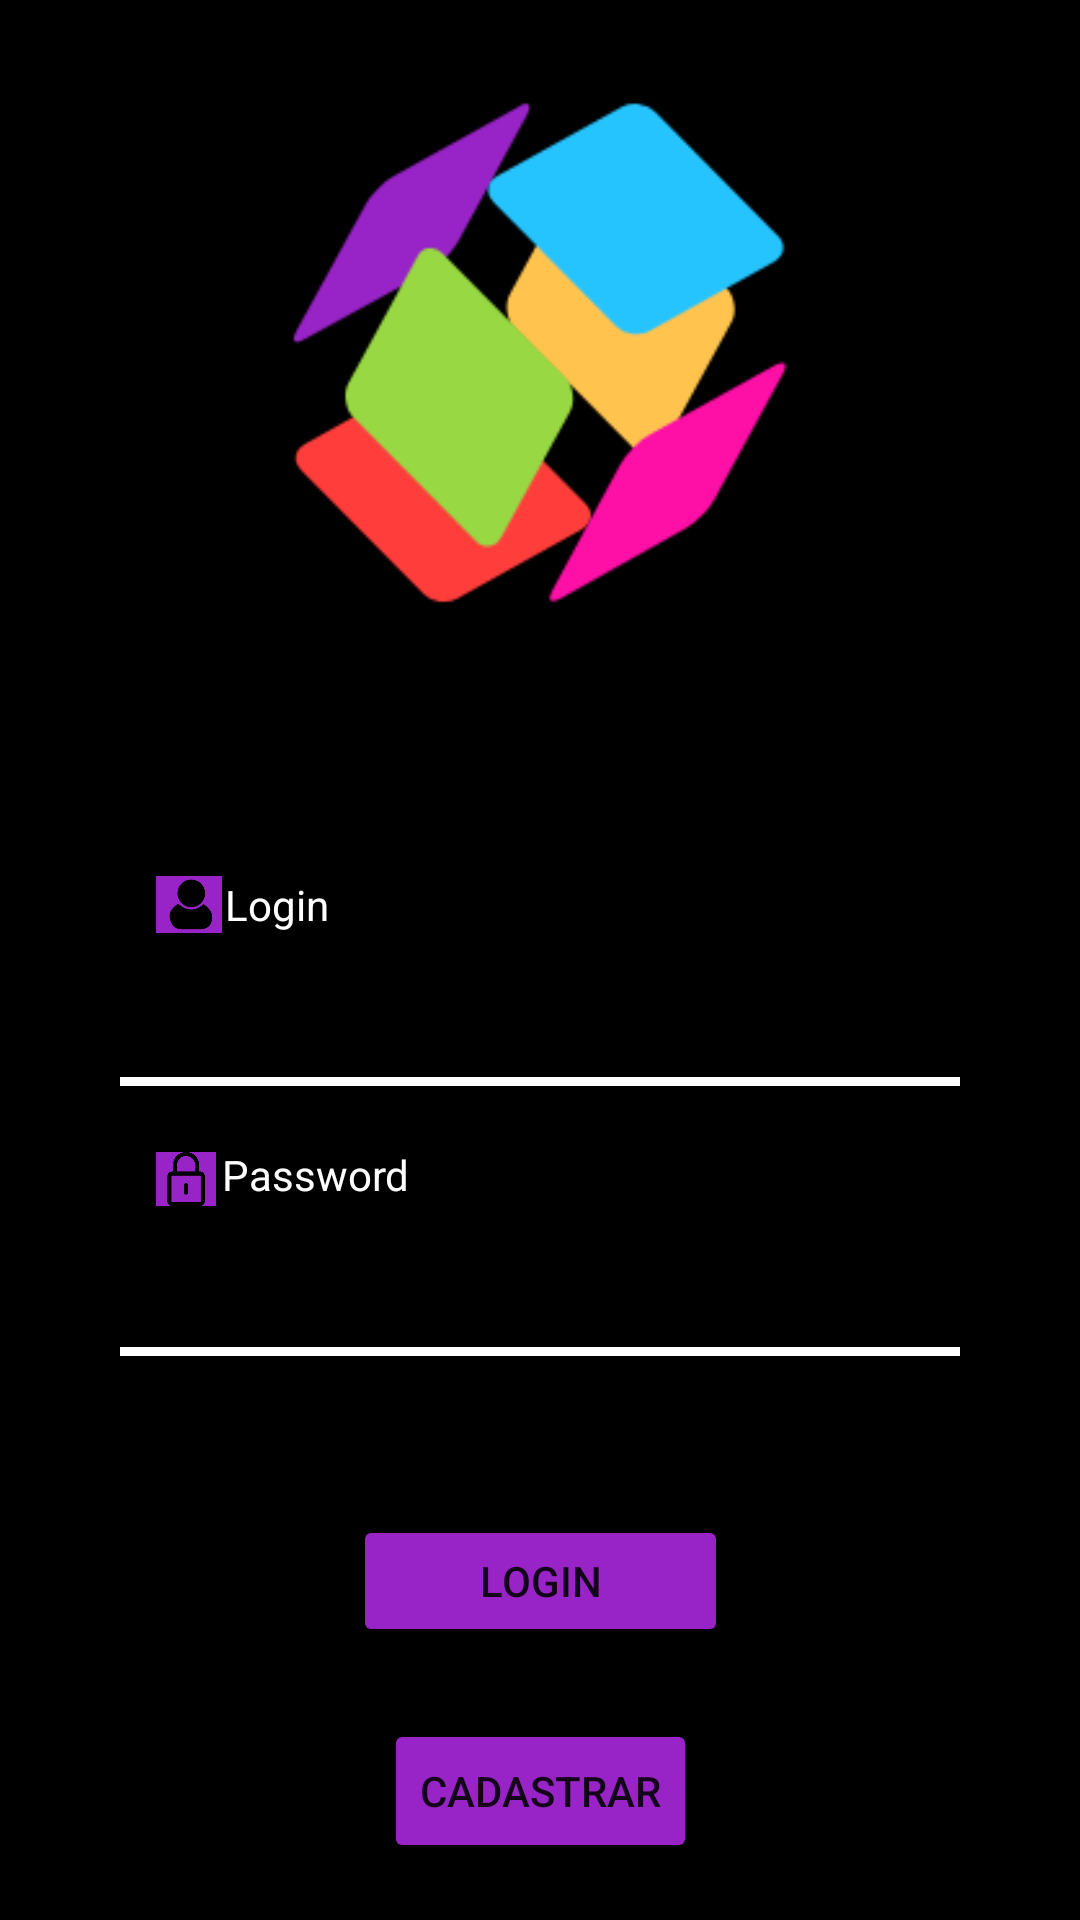

Icon click points for this 1080w x 1920h phone screenshot, format [x,y]:
passwd: [186,1179]
user: [189,904]
